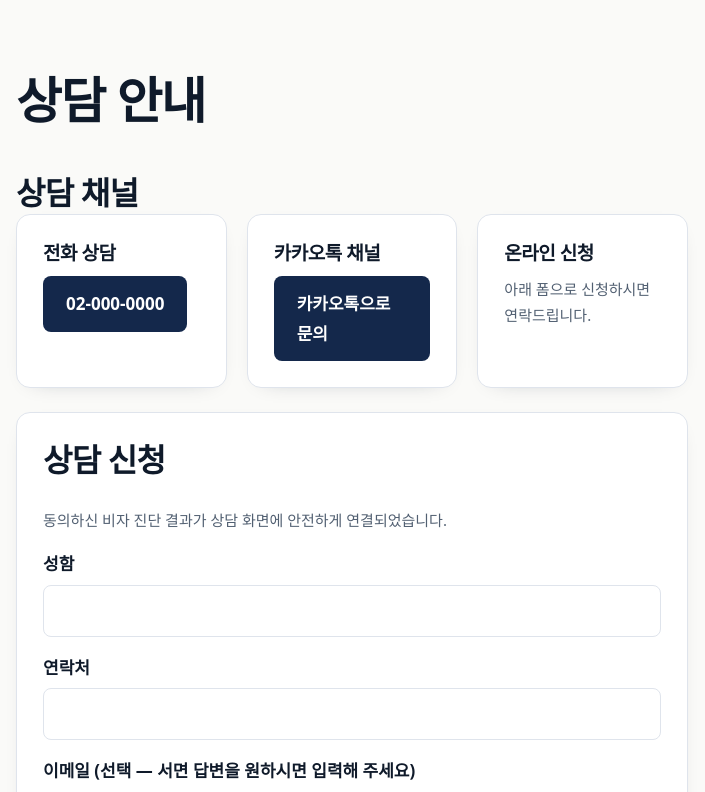
Test case: 상담 폼 제출 (개업 후 상태 모킹) › 동의 후 발급된 비자 진단 토큰을 한 번 가져와 상담 접수에 포함한다
Check: the text "동의하신 비자 진단 결과가 상담 화면에 안전하게 연결되었습니다." is shown, box [43,510,447,530]
Step 1. Type "홍길동" into the field labelled "성함" → (352, 611), box [43,585,661,637]
Step 2. Type "01012345678" into the field labelled "연락처" → (352, 714), box [43,688,661,740]
(page scrolled)
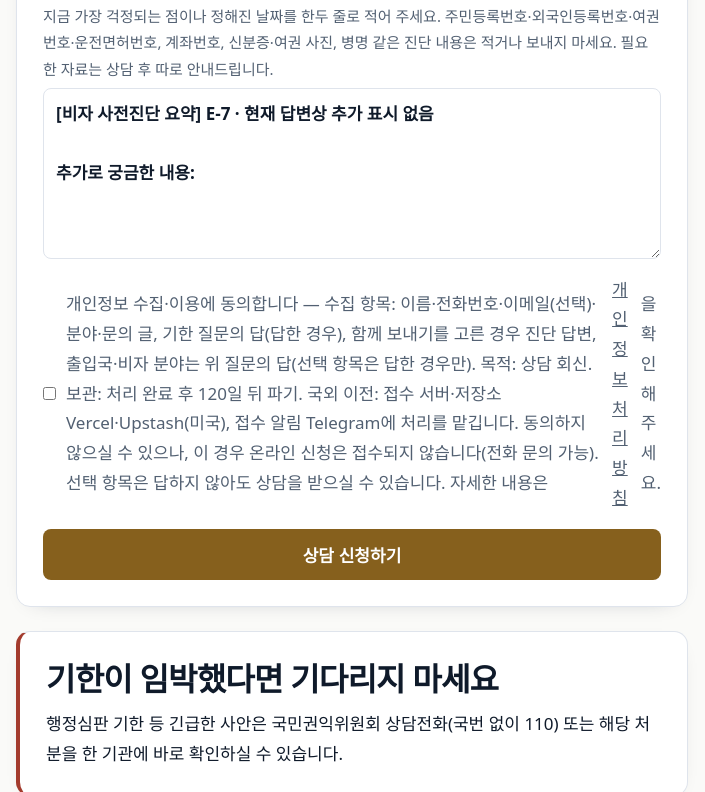
Step 3. Click the checkbox labelled "개인정보 수집·이용에 동의" → (50, 394), box [43,387,56,400]
(page scrolled)
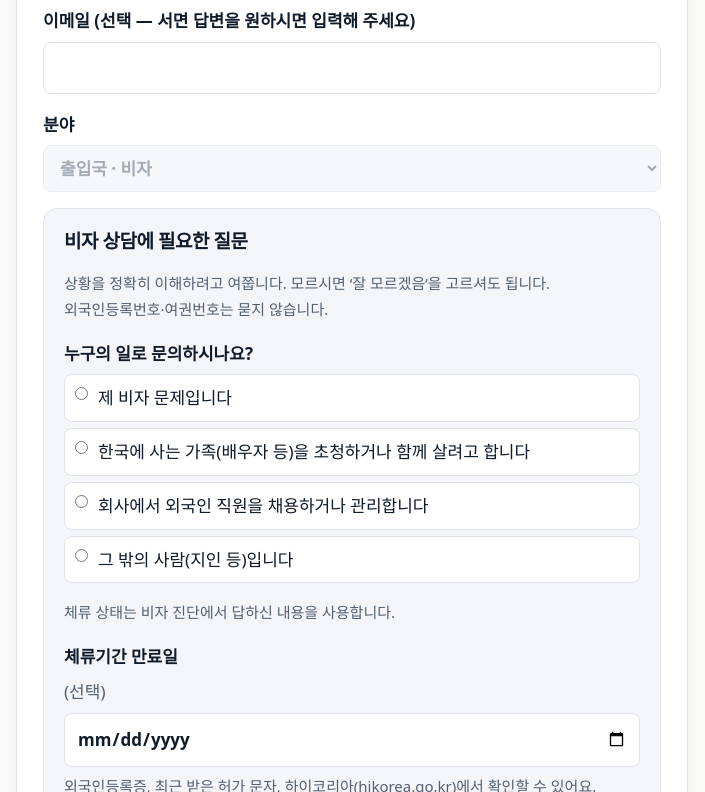
Step 4. Click the radio button labelled "제 비자 문제입니다" → (82, 394), box [75,387,88,400]
(page scrolled)
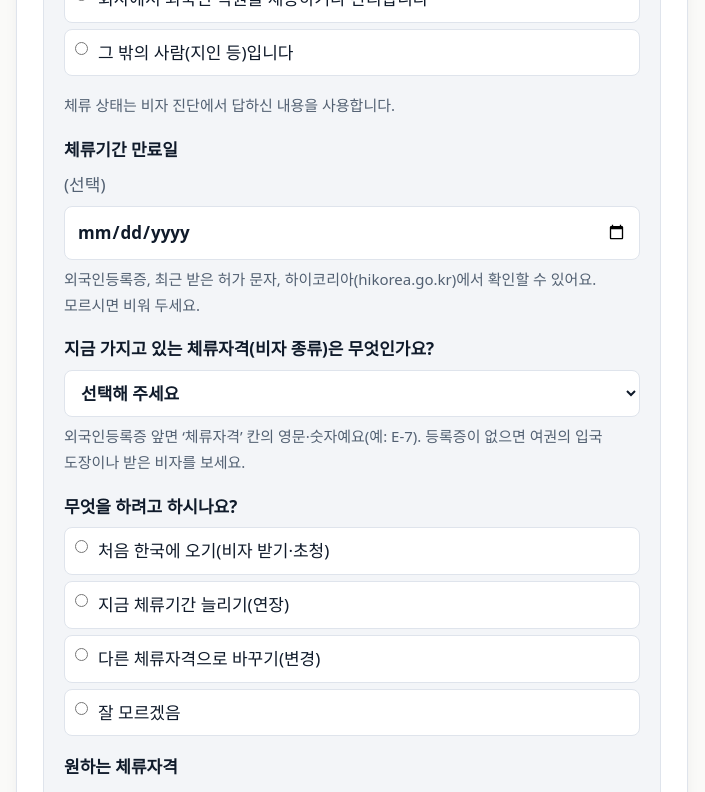
Step 5. Select "취업(E-7·E-9·H-2 등)" in the dropdown labelled "지금 가지고 있는 체류자격" → (352, 394), box [64,370,640,417]
Step 6. Click the radio button labelled "다른 체류자격으로 바꾸기(변경)" → (82, 654), box [75,648,88,661]
(page scrolled)
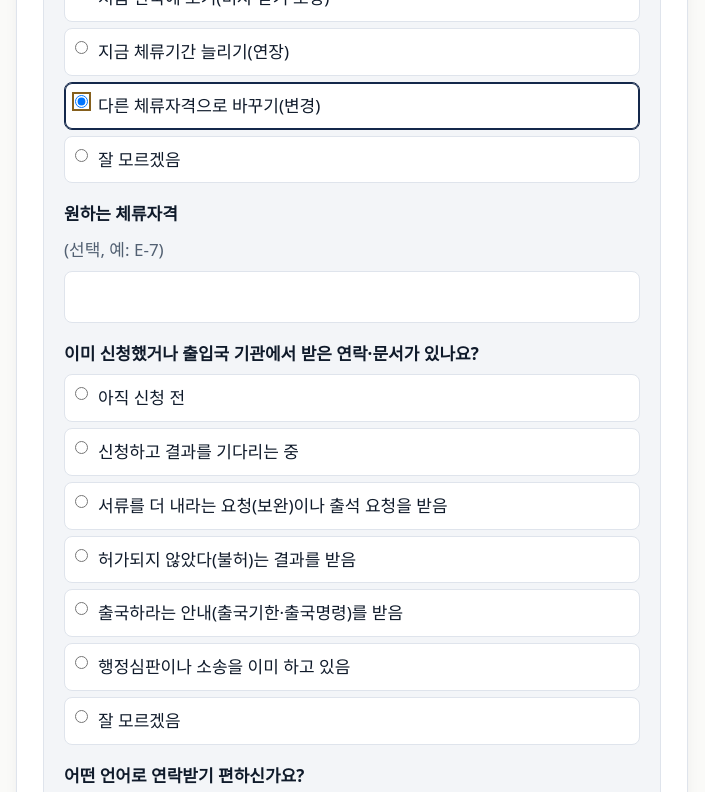
Step 7. Click the radio button labelled "아직 신청 전" → (82, 394), box [75,387,88,400]
(page scrolled)
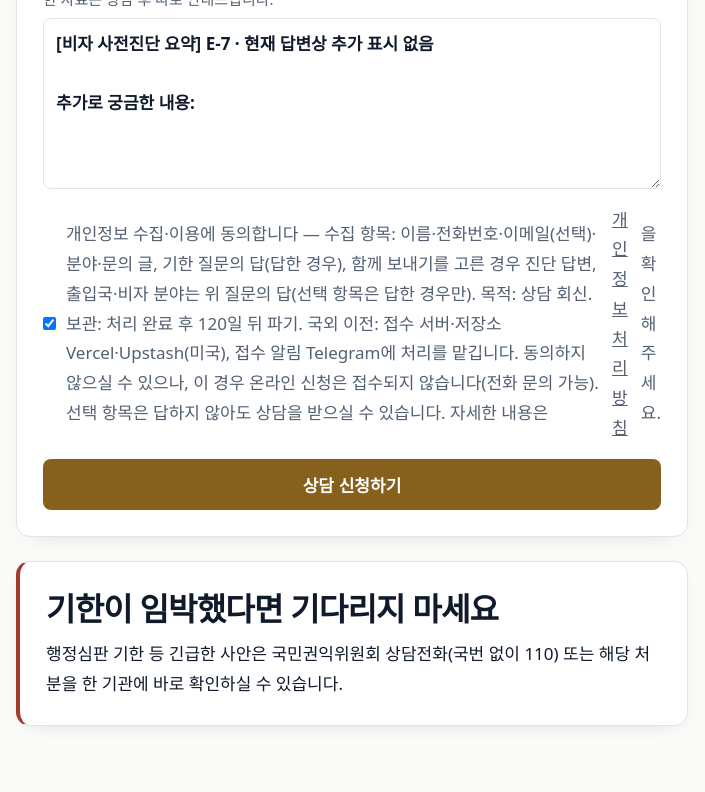
Step 8. Click the button "상담 신청하기" → (352, 484), box [43,458,661,510]
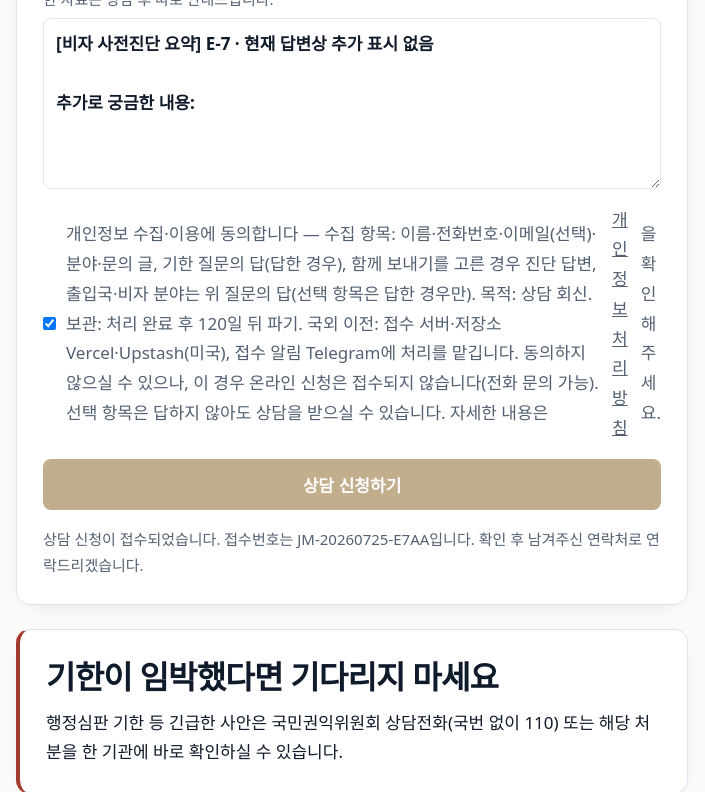
Check: the text "JM-20260725-E7AA" is shown, box [220,528,475,548]
